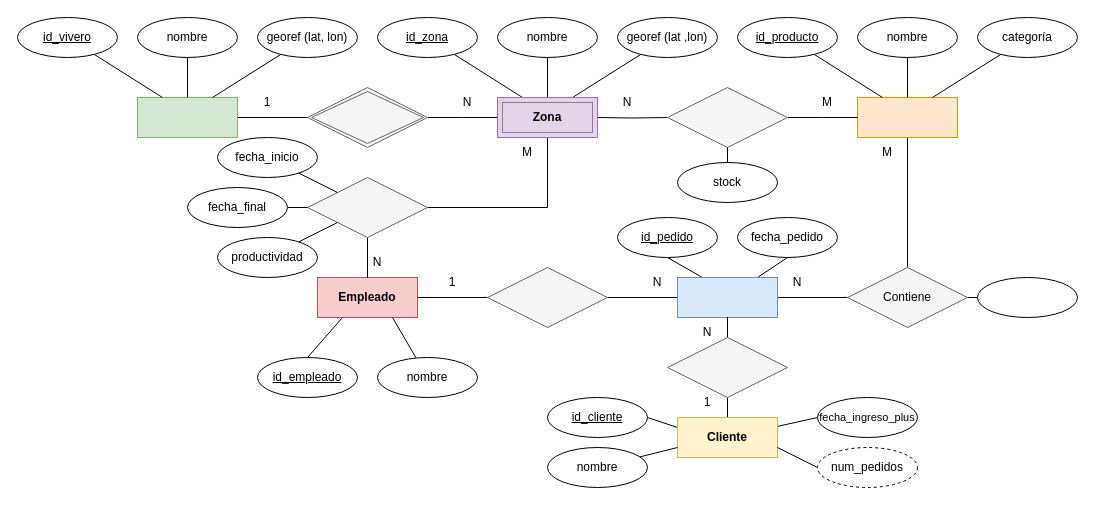
Some shapes in this 1095 by 505 pixel diagram are drawn without their labels. Each missing label, with the box of its shape:
cantidad: (976, 276, 1078, 318)
Gestiona: (486, 266, 608, 328)
Hace: (666, 336, 788, 398)
Pedido: (676, 276, 778, 318)
Producto: (856, 96, 958, 138)
Puesto: (306, 176, 428, 238)
Se asigna: (666, 86, 788, 148)
Tiene: (306, 86, 428, 148)
Vivero: (136, 96, 238, 138)
